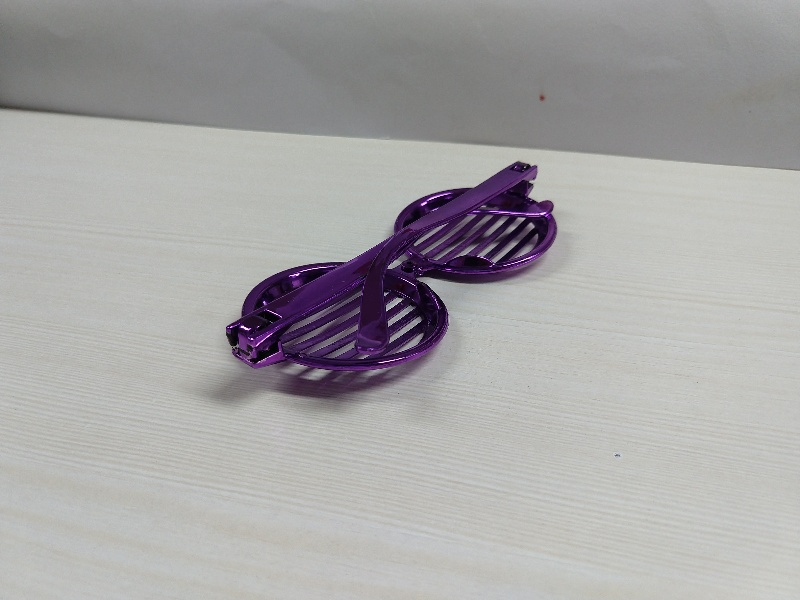shades: (220, 156, 561, 397)
